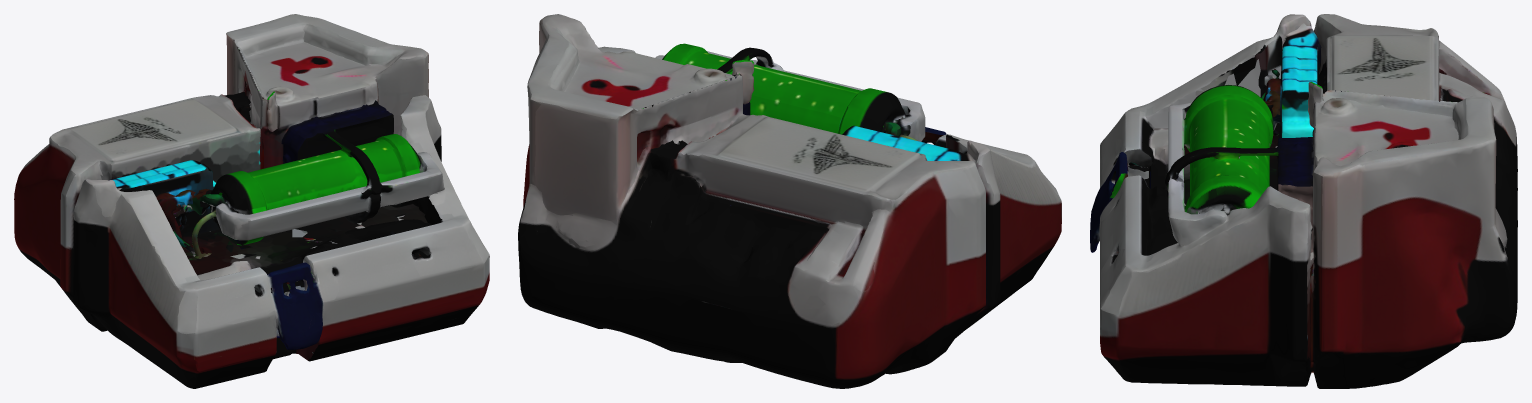
File: Healthpack.fbx
The picture shows the model from 3 angles, left to right: view 1: azimuth 30°, elevation 25°; view 2: azimuth 150°, elevation 25°; view 3: azimuth 270°, elevation 25°; orthographic projection. The views are drawn at different scales.
Visible parts, largest first — view 1: Healthpack; view 2: Healthpack; view 3: Healthpack.
Part boxes in pixels (x1,y1,x2,y2): Healthpack: (14,14,489,388); Healthpack: (518,14,1061,388); Healthpack: (1090,14,1517,388).
Bounding box in the file's own units: 199 × 105 × 172.
Materials: 1 (1 with a texture image).
